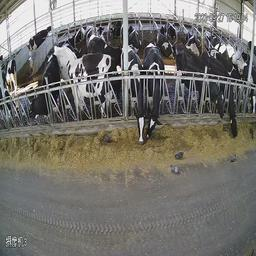cow: (175, 43, 223, 119), (69, 53, 121, 121), (121, 46, 144, 145), (144, 41, 165, 143), (27, 54, 57, 122), (222, 50, 241, 138), (29, 25, 50, 55), (156, 25, 173, 58), (2, 56, 16, 95), (184, 28, 201, 53), (128, 23, 142, 51), (62, 33, 82, 50), (111, 20, 123, 39)
